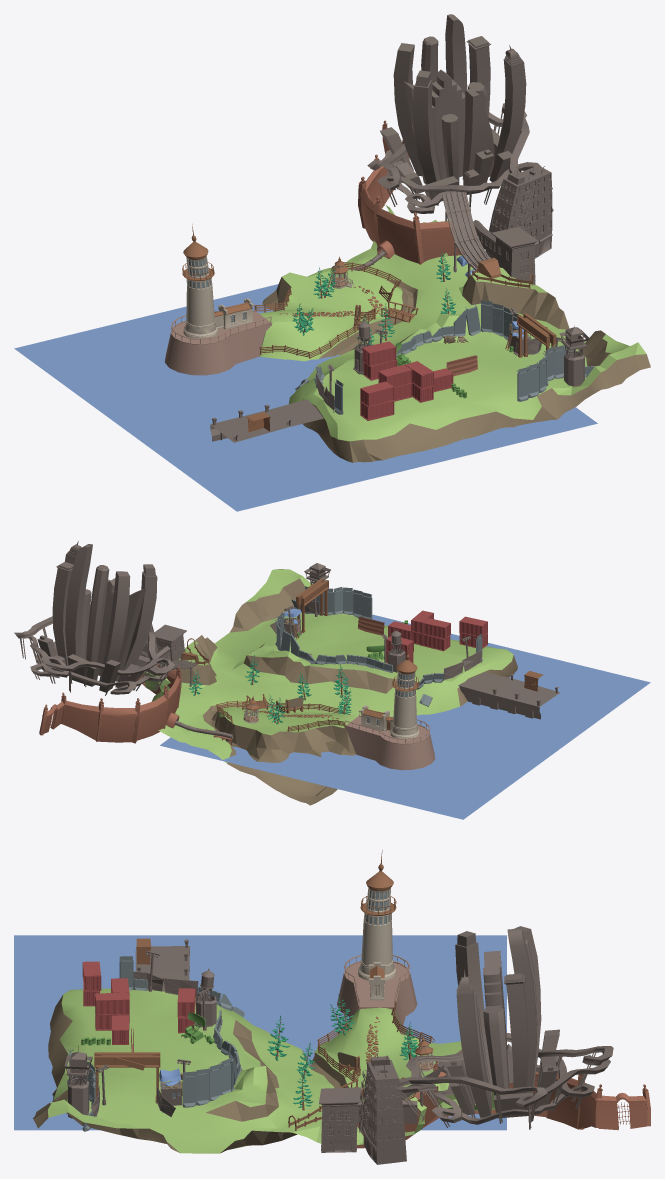
File: gmlv_testing_ground_w_collisions.glb
The picture shows the model from 3 angles, top to bottom: view 1: azimuth 30°, elevation 25°; view 2: azimuth 150°, elevation 25°; view 3: azimuth 270°, elevation 25°; orthographic projection. The views are drawn at different scales.
Parts seen in each view (by area): view 1: ground, Landscape_plane.001, down_town_mid, park_town_wall, wired_wall_mil.002, lighthouse_pedestal, getto_apart_town_2, lighthouse, gap_building.002, mil_port, train_bridge, nat_park_fence (+3 smaller); view 2: ground, Landscape_plane.001, down_town_mid, park_town_wall, wired_wall_mil.002, lighthouse_pedestal, mil_port, lighthouse, gap_building.002, nat_park_fence, entrance_arch, mil_entrance_fence (+4 smaller); view 3: Landscape_plane.001, ground, down_town_mid, getto_apart_town_2, wired_wall_mil.002, park_town_wall, lighthouse, gap_building.002, lighthouse_pedestal, mil_port, obs_tower, entrance_arch (+8 smaller).
Boxes of the visible parts, box(x1,y1,x2,y2) form: ground: box(259, 205, 650, 462); Landscape_plane.001: box(14, 284, 597, 511); down_town_mid: box(367, 14, 541, 213); park_town_wall: box(358, 120, 464, 264); wired_wall_mil.002: box(295, 300, 598, 414); lighthouse_pedestal: box(164, 305, 271, 375); getto_apart_town_2: box(485, 165, 553, 258); lighthouse: box(182, 224, 253, 339); gap_building.002: box(473, 220, 538, 284); mil_port: box(210, 399, 323, 442); train_bridge: box(442, 192, 490, 278); nat_park_fence: box(255, 262, 401, 358); ground: box(144, 569, 517, 805); Landscape_plane.001: box(160, 614, 650, 819); down_town_mid: box(14, 541, 174, 695); park_town_wall: box(39, 664, 181, 743); wired_wall_mil.002: box(275, 586, 482, 706); lighthouse_pedestal: box(345, 710, 435, 770); mil_port: box(458, 672, 560, 719); lighthouse: box(360, 644, 419, 739); gap_building.002: box(154, 624, 186, 670); nat_park_fence: box(216, 699, 350, 731); entrance_arch: box(296, 578, 328, 632); mil_entrance_fence: box(270, 601, 481, 680); Landscape_plane.001: box(14, 935, 506, 1130); ground: box(33, 988, 495, 1153); down_town_mid: box(394, 926, 613, 1129); getto_apart_town_2: box(359, 1052, 406, 1164); wired_wall_mil.002: box(67, 956, 244, 1131); park_town_wall: box(411, 1061, 650, 1130); lighthouse: box(358, 850, 396, 1000); gap_building.002: box(319, 1087, 417, 1152); lighthouse_pedestal: box(337, 954, 417, 1024); mil_port: box(135, 939, 189, 991); obs_tower: box(64, 1045, 92, 1118); entrance_arch: box(94, 1052, 160, 1103).
Size of what is drawn, in the model's own units: 99.12 by 45.19 by 94.96.
